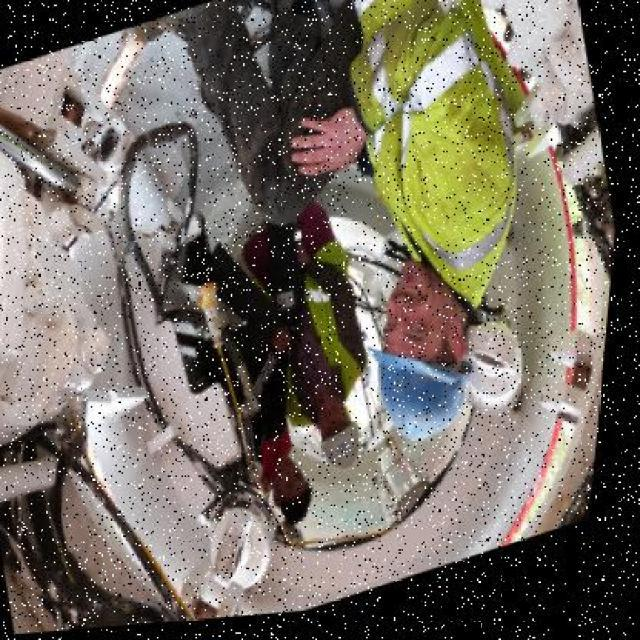helmet: (363, 318, 497, 458), (315, 414, 381, 487)
vest: (338, 0, 564, 321)
